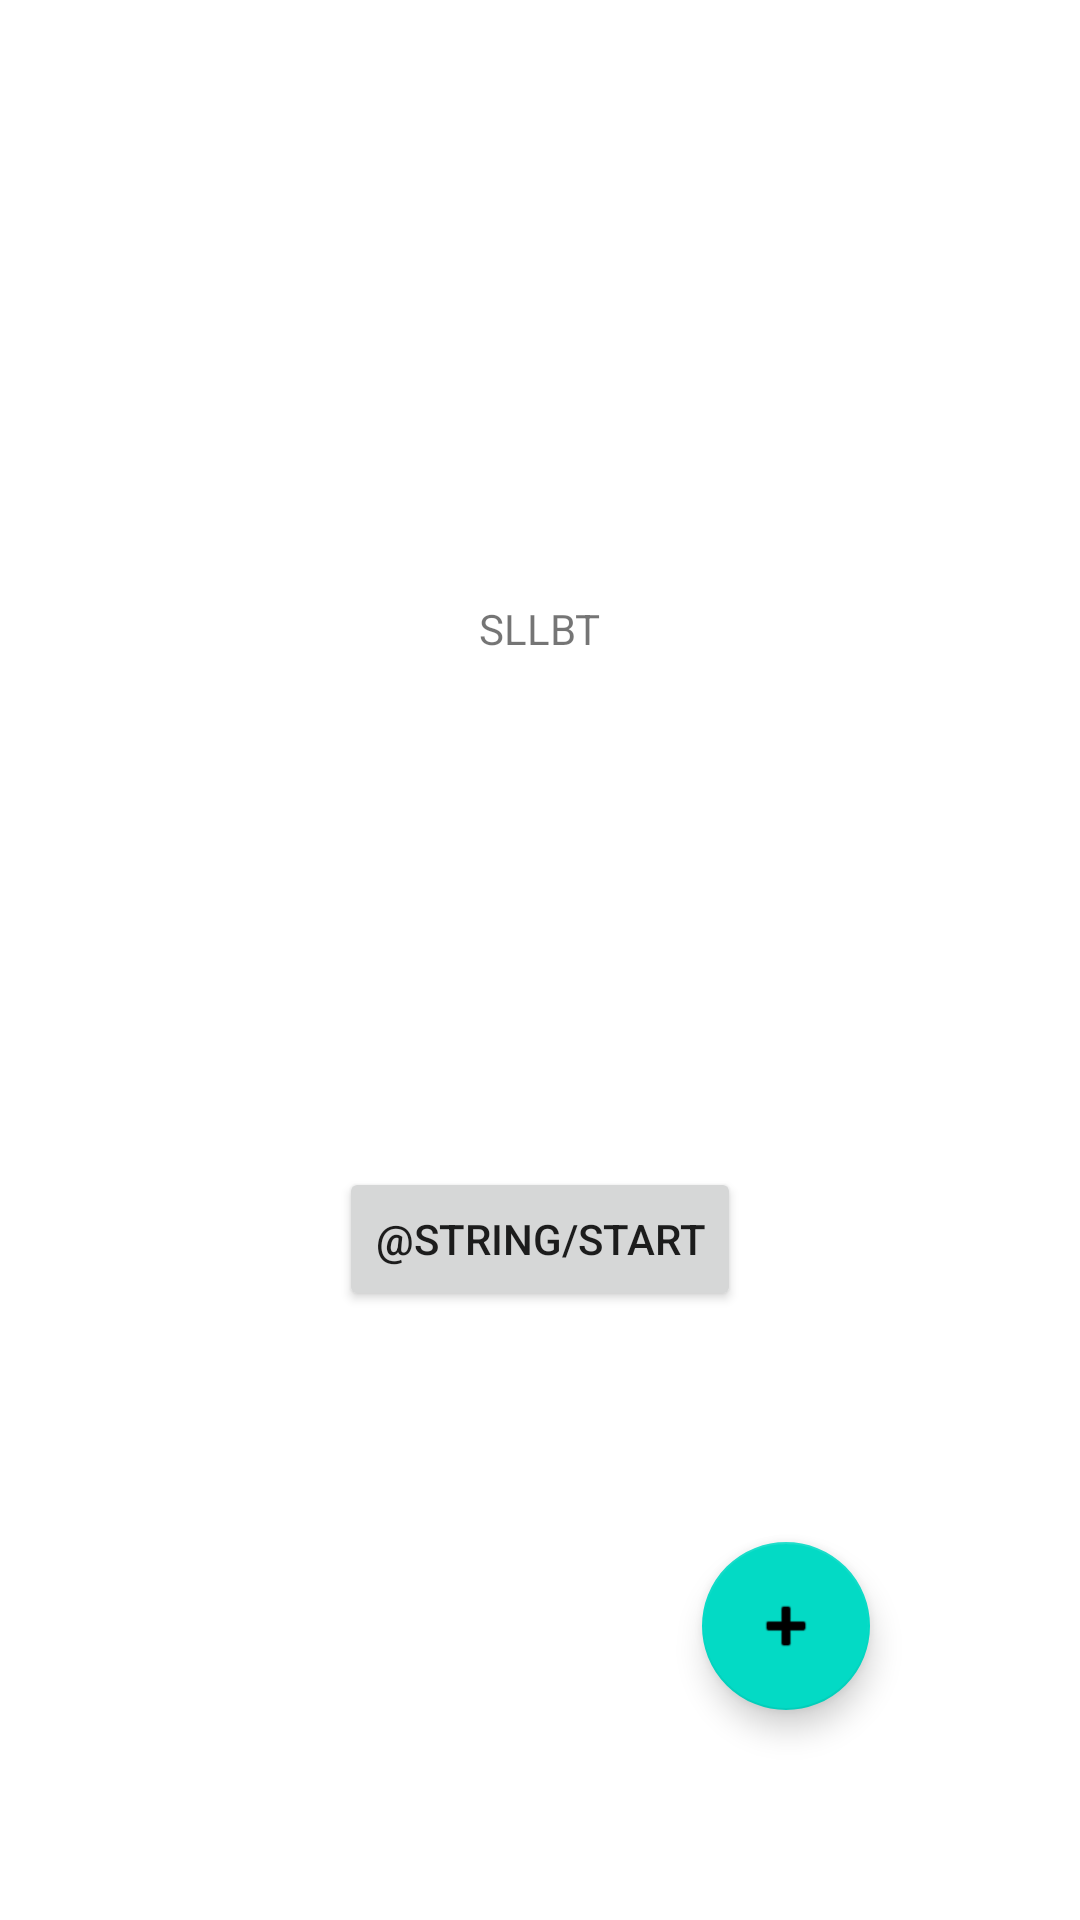

Screen size 1080px×1920px. Icon name, then its center in pixels as (x=x, y=y):
add: (x=786, y=1626)
